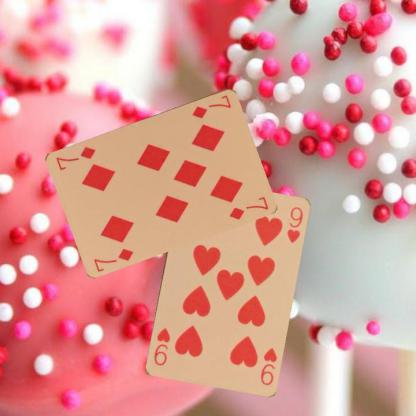7d: (91, 245, 135, 273), (189, 92, 233, 119)
9h: (258, 344, 278, 387)
